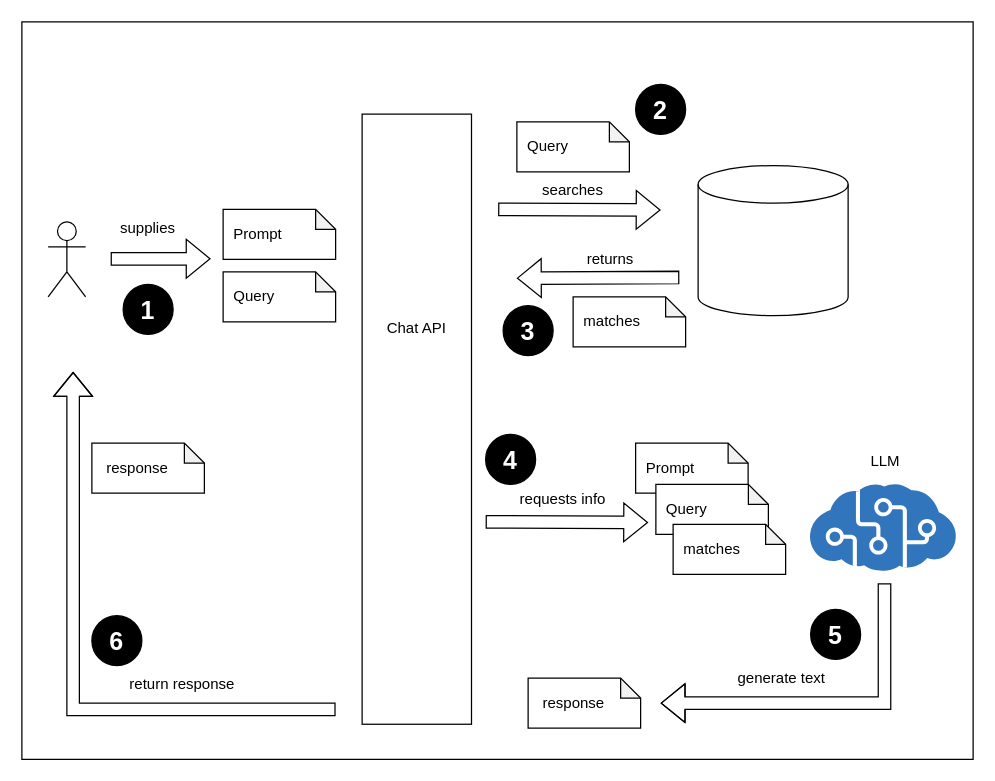
The diagram is 995 pixels wide and 781 high, and some of its shapes have lost their labels. Each missing label, with the centre of its shape:
"Quadrant Vector DB" belongs at point 772,240.
"User" belongs at point 66,259.
